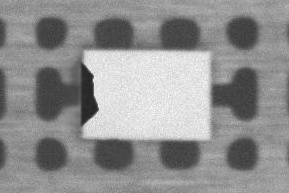DIE_BROKEN: (77, 60, 99, 129)
